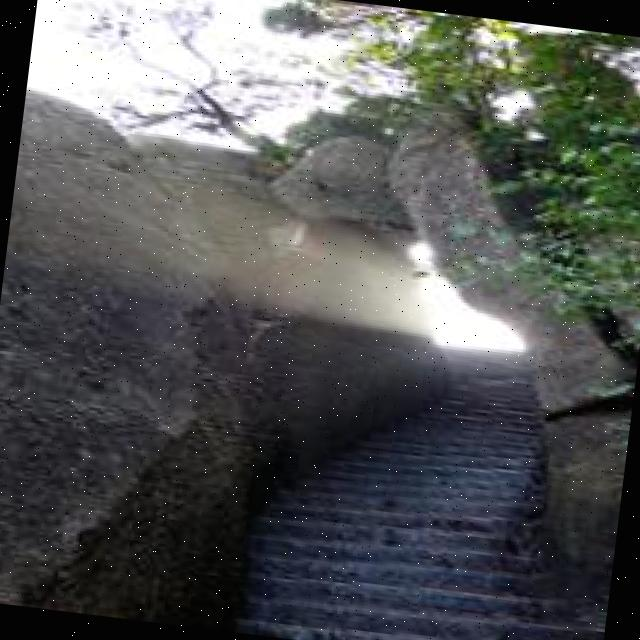stairs: (215, 290, 630, 640)
